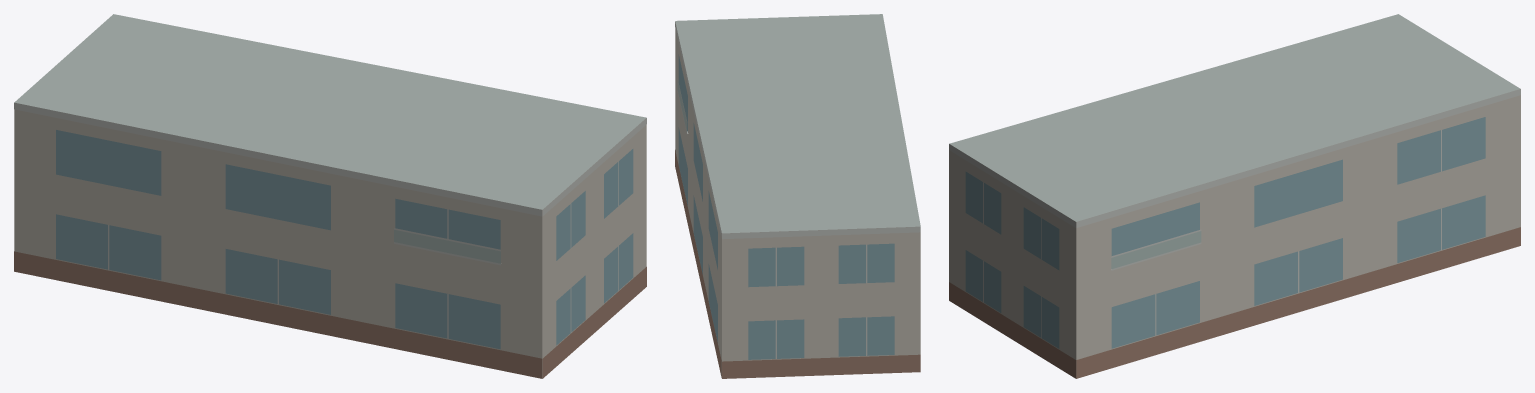
File: survey-upis-32843846.glb
3 renders of one model, left to right at view 1: azimuth 30°, elevation 25°; view 2: azimuth 150°, elevation 25°; view 3: azimuth 270°, elevation 25°, orthographic. The views are drawn at different scales.
Visible parts, largest first — view 1: survey-upis-32843846.tmp; view 2: survey-upis-32843846.tmp; view 3: survey-upis-32843846.tmp.
Part boxes in pixels (x1=…): survey-upis-32843846.tmp: x1=14, y1=14, x2=646, y2=378; survey-upis-32843846.tmp: x1=675, y1=14, x2=920, y2=378; survey-upis-32843846.tmp: x1=949, y1=14, x2=1520, y2=378.
Bounding box in the file's own units: 17.34 × 6.1 × 20.15.
